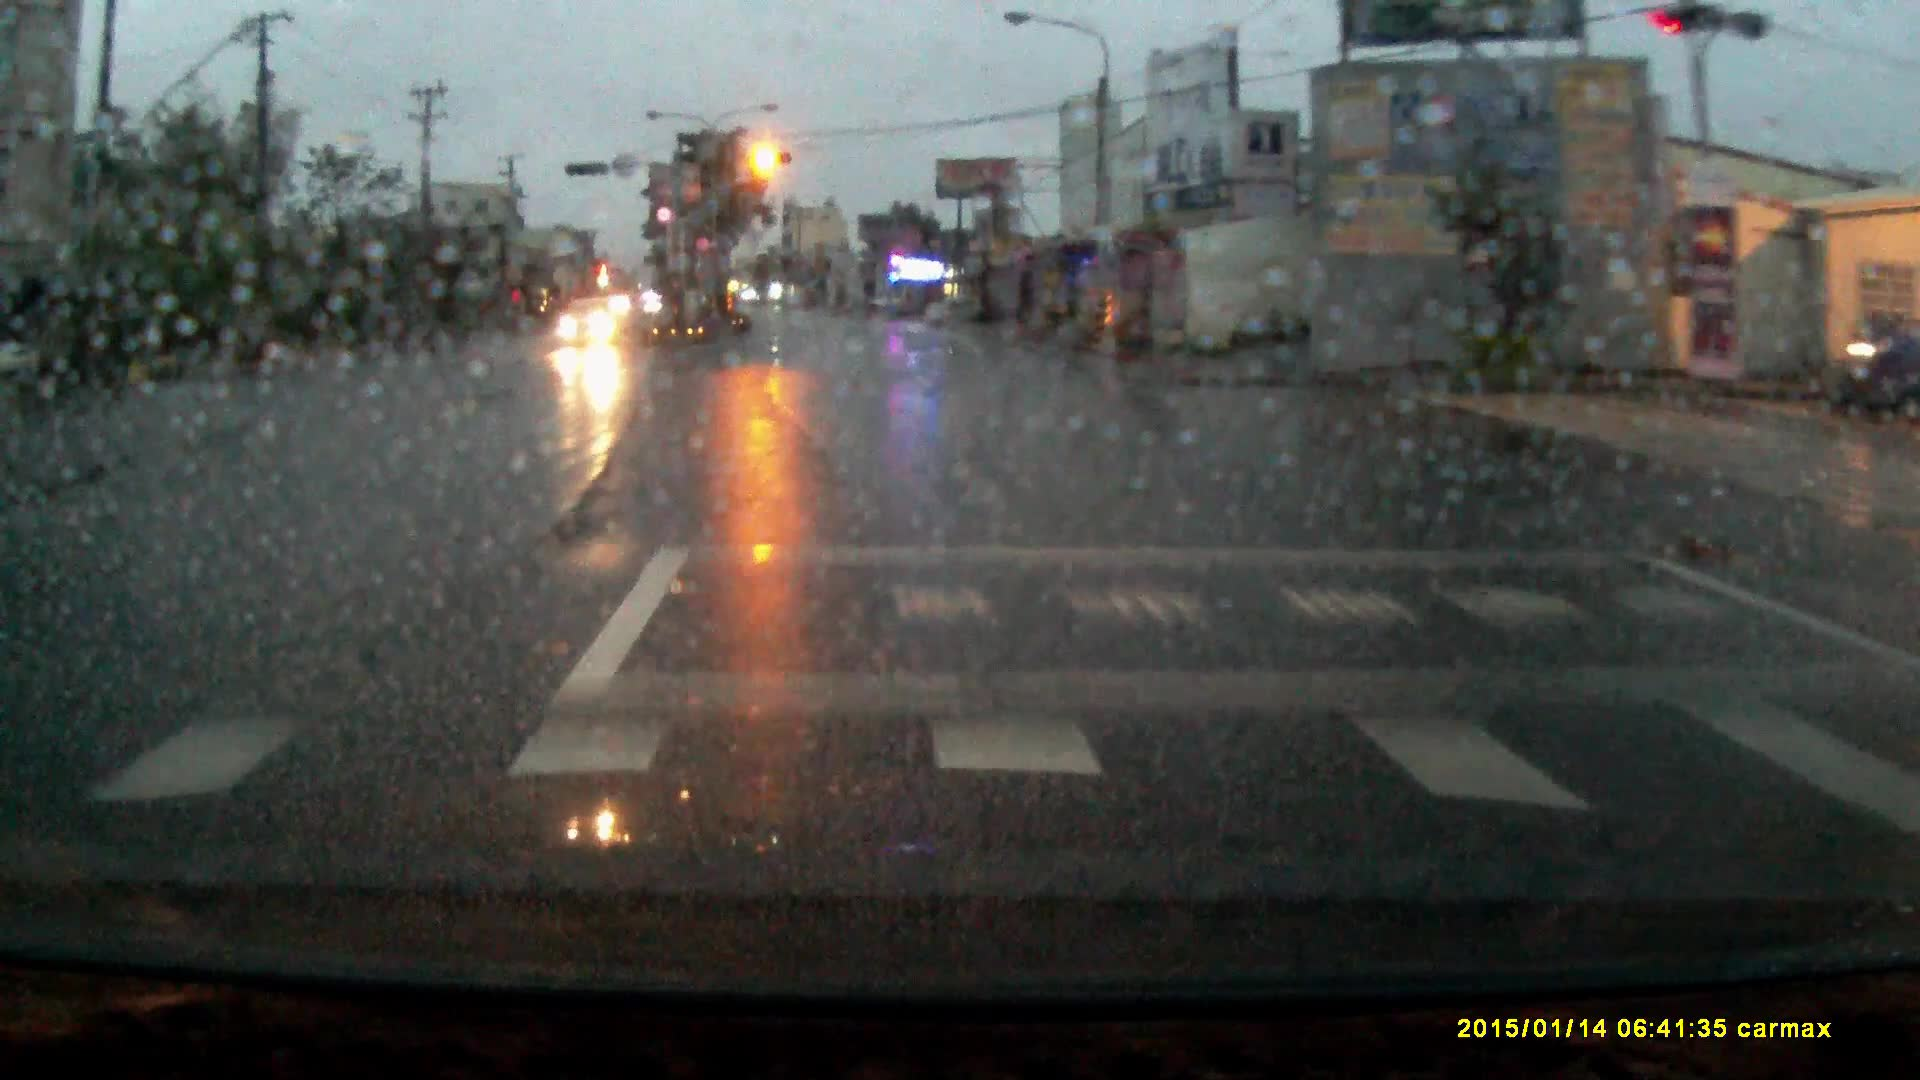rider: (1825, 294, 1915, 420)
vehicle: (554, 297, 622, 345)
